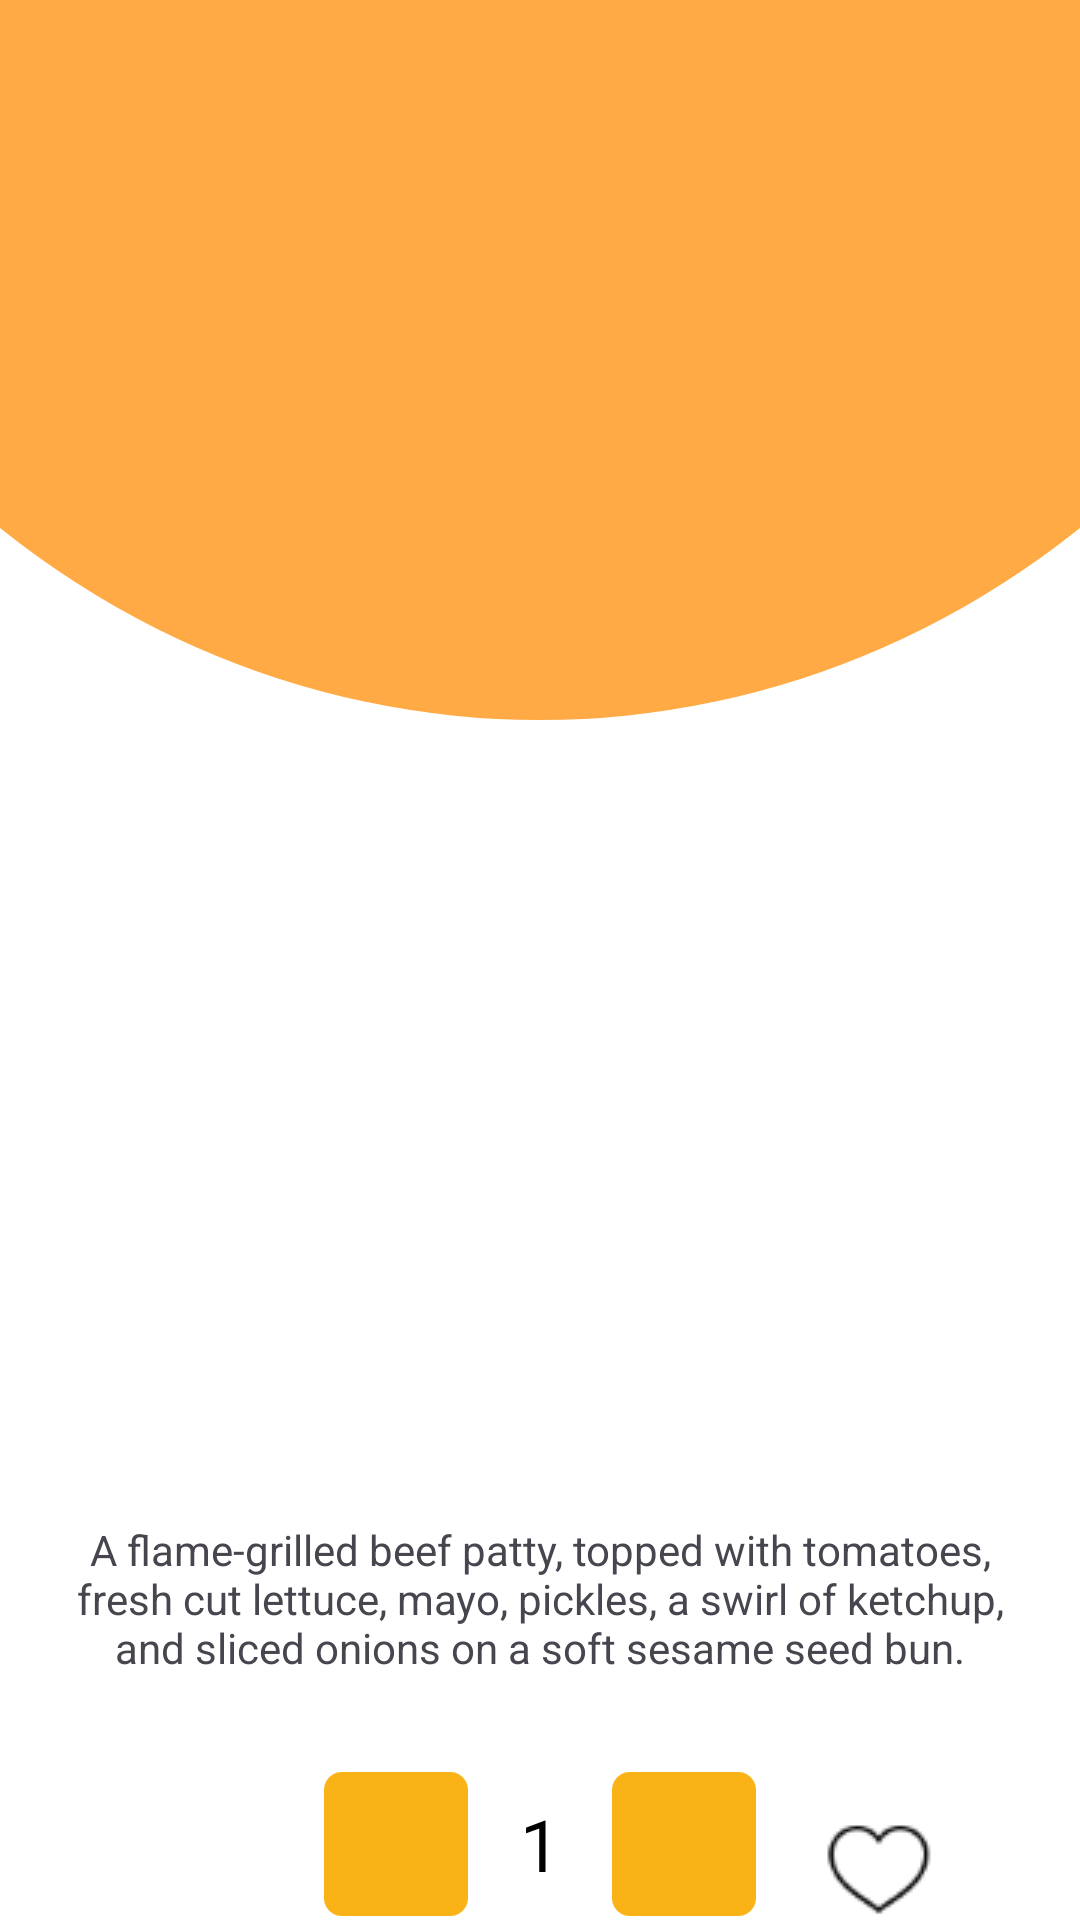

Icon bounding boxes for this 1080*1920 phone screenshot, format [left=x1, top=y1, right=x2, bottom=y2]:
favourite: [left=827, top=1825, right=931, bottom=1914]
